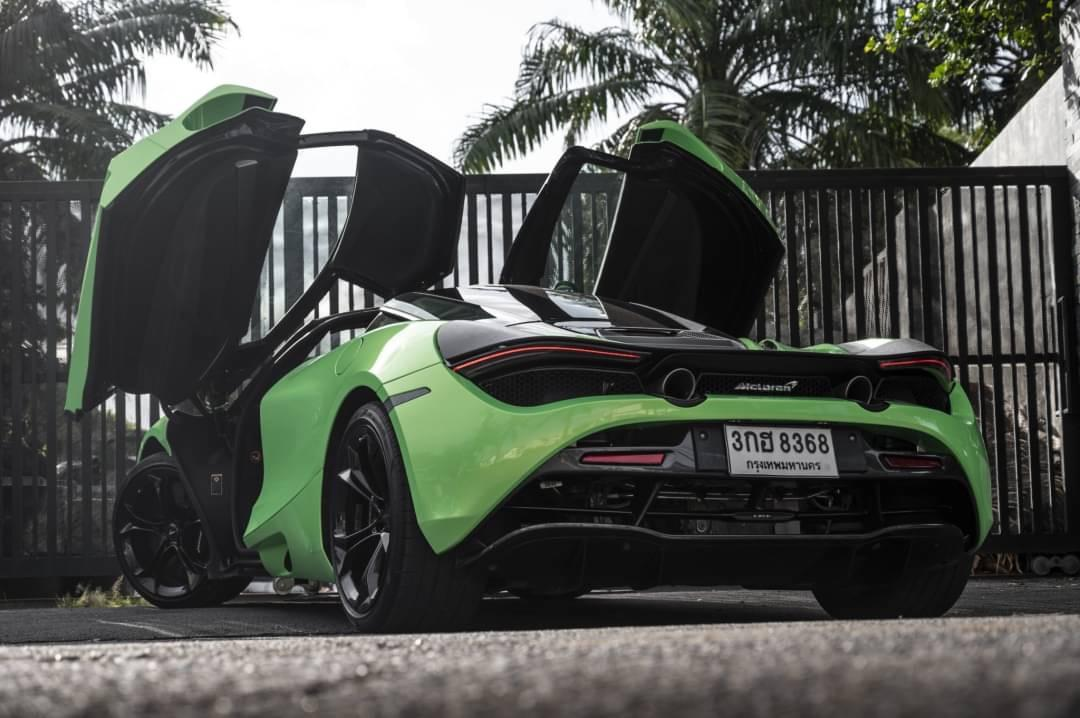license-plate: (718, 419, 843, 482)
